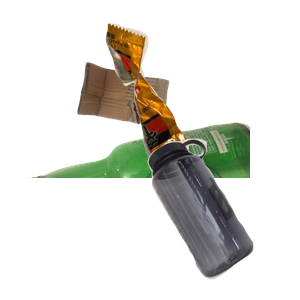cardboard: (75, 59, 237, 176)
glass: (23, 120, 263, 300)
plastic: (145, 136, 300, 300)
trash: (103, 21, 300, 174)
